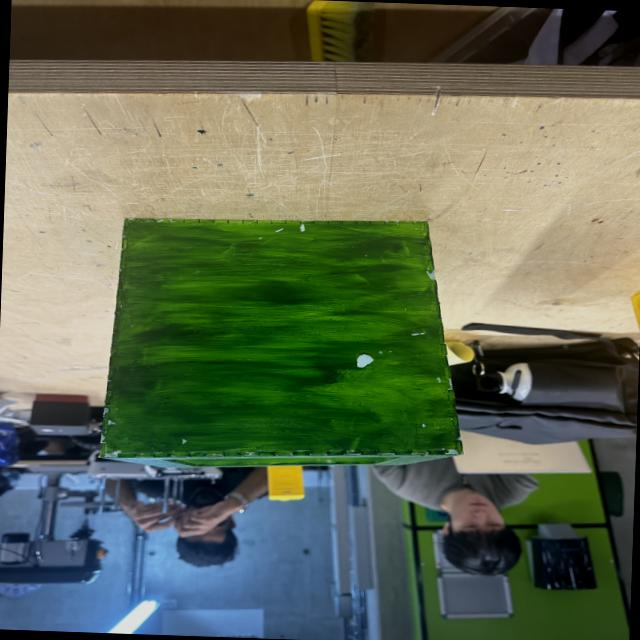green_bin: (97, 208, 470, 478)
